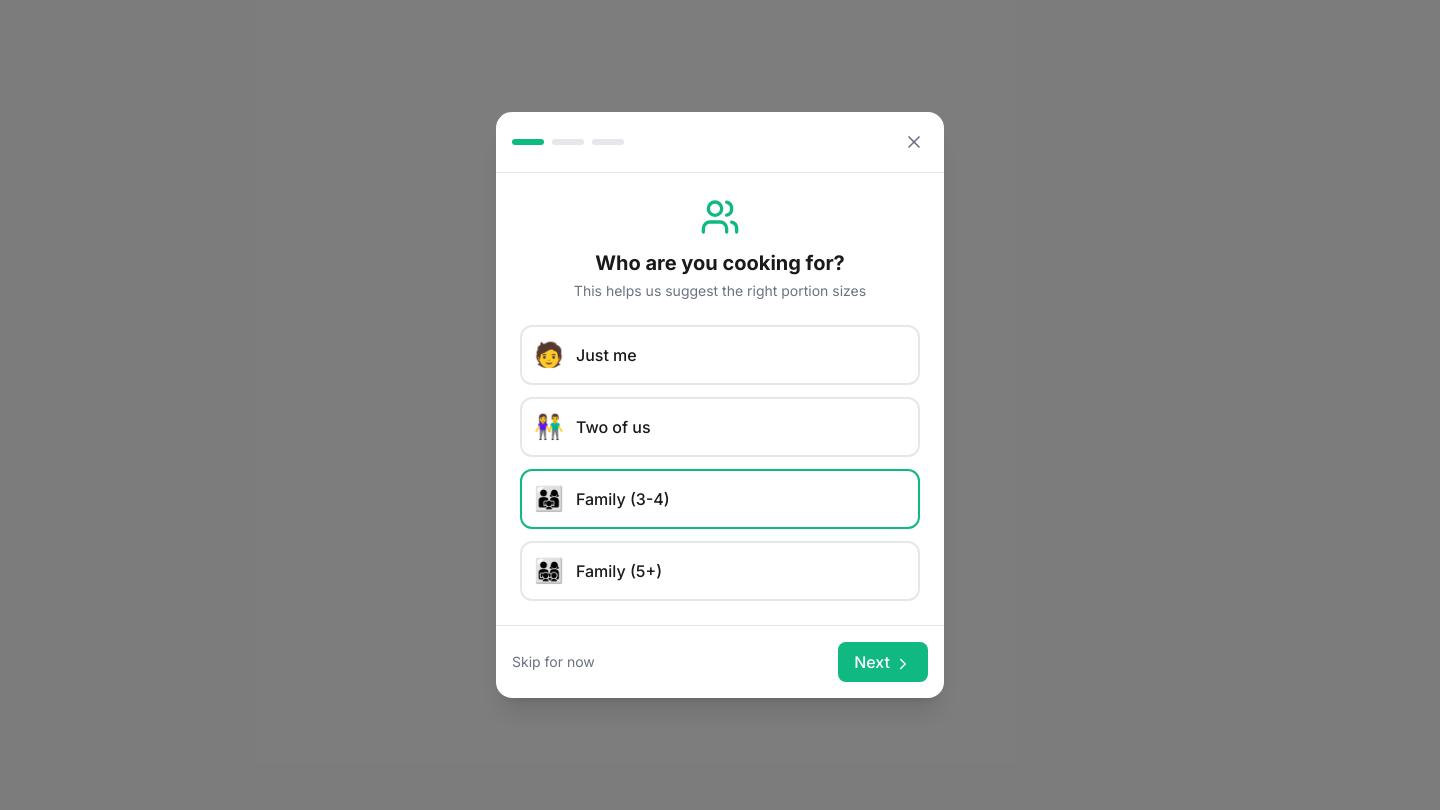
Scenario: OnboardingWizard › navigates to step 2 on Next click
What coordinates should you click on to do the following:
click the button "Next"
I would click on:
 (883, 662)
Its box is [838, 642, 928, 682].
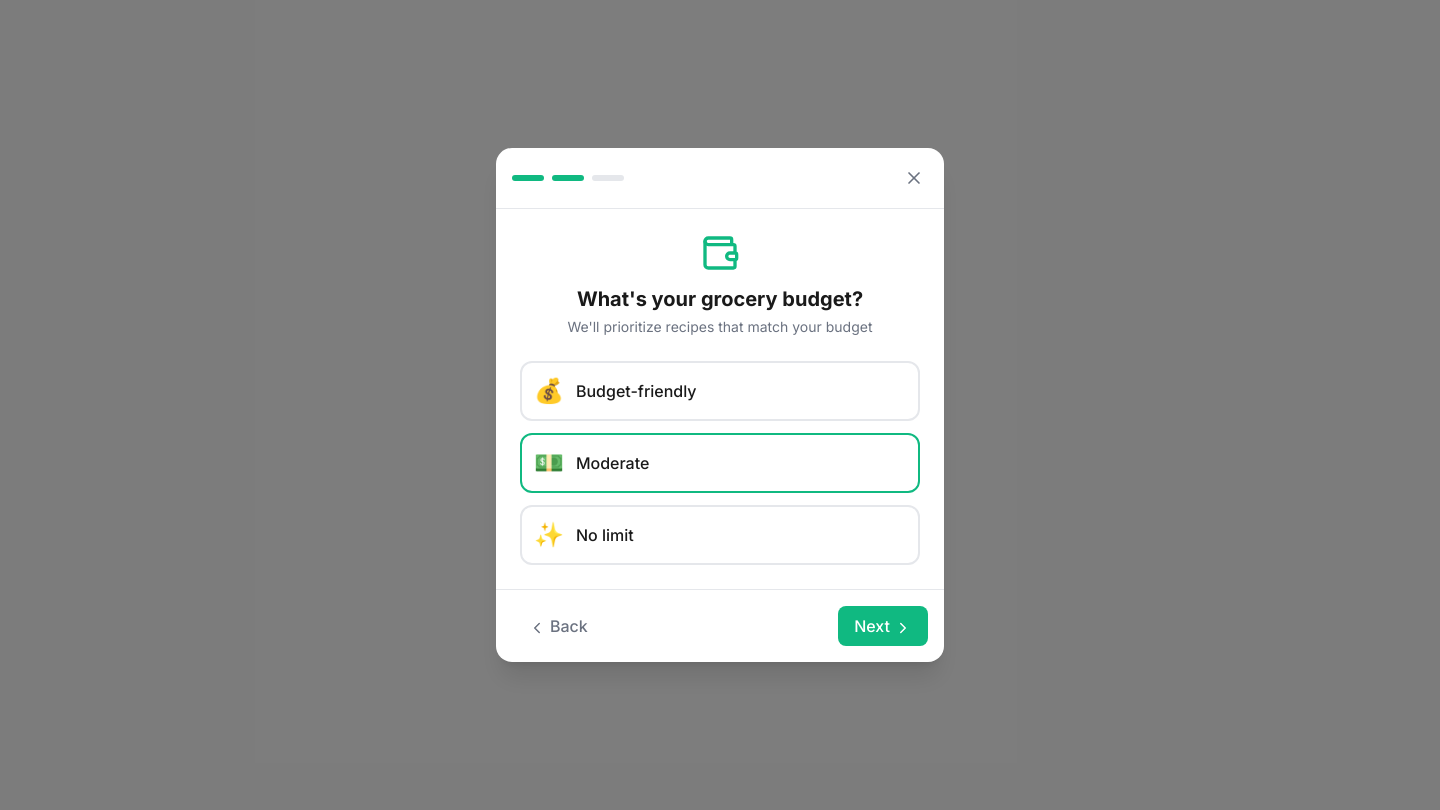
Now the heading "What's your grocery budget?" is shown, box [577, 287, 863, 311]
Now the text "Budget-friendly" is shown, box [576, 379, 696, 403]
Now the text "Moderate" is shown, box [576, 451, 649, 475]
